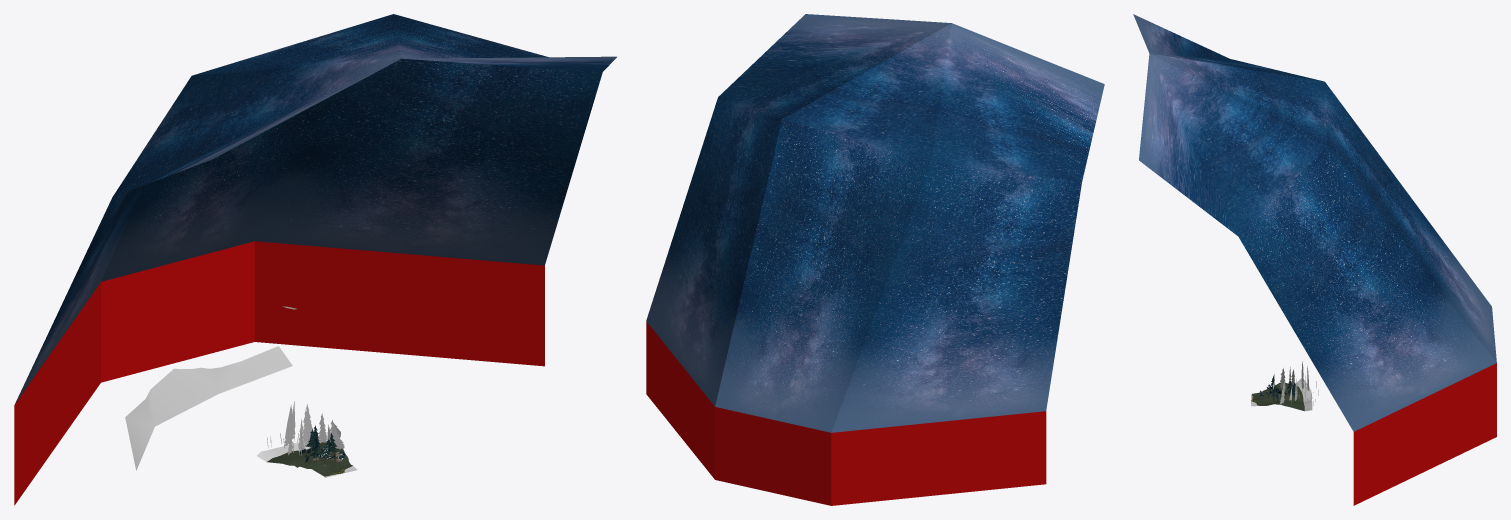
Rendered from ShinyJirachiScene.fbx.
The picture shows the model from 3 angles, left to right: view 1: azimuth 30°, elevation 25°; view 2: azimuth 150°, elevation 25°; view 3: azimuth 270°, elevation 25°; orthographic projection. The views are drawn at different scales.
Visible parts, largest first — view 1: jirachiSkyDomeGeo, jirachiFarHillGeo, jirachiBaseWorldGeo, jirachiPineTreeCardGeo; view 2: jirachiSkyDomeGeo; view 3: jirachiSkyDomeGeo, jirachiBaseWorldGeo, jirachiPineTreeCardGeo.
Part boxes in pixels (x1,y1,x2,y2): jirachiSkyDomeGeo: (14, 14, 616, 505); jirachiFarHillGeo: (125, 346, 331, 470); jirachiBaseWorldGeo: (267, 441, 352, 476); jirachiPineTreeCardGeo: (284, 401, 344, 455); jirachiSkyDomeGeo: (646, 14, 1104, 505); jirachiSkyDomeGeo: (1133, 14, 1496, 505); jirachiBaseWorldGeo: (1252, 382, 1304, 411); jirachiPineTreeCardGeo: (1273, 361, 1311, 404).
Bounding box in the file's own units: 138 × 118 × 110.
